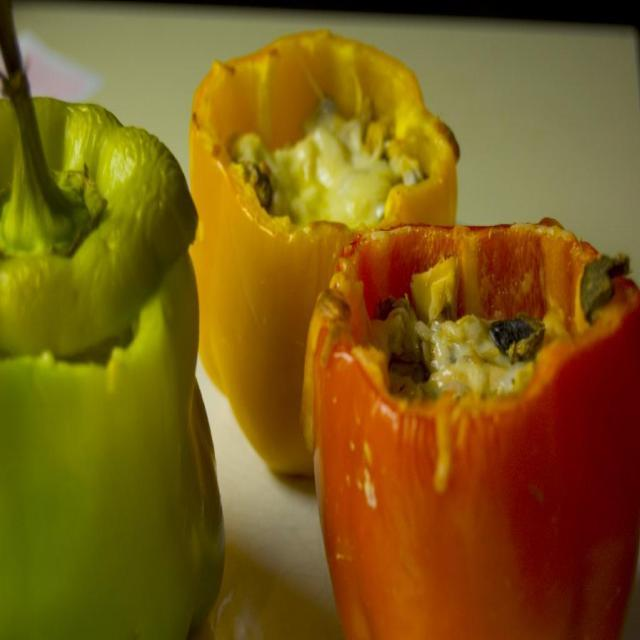Bell pepper: (0, 0, 226, 639), (299, 219, 639, 639), (189, 36, 461, 476)
